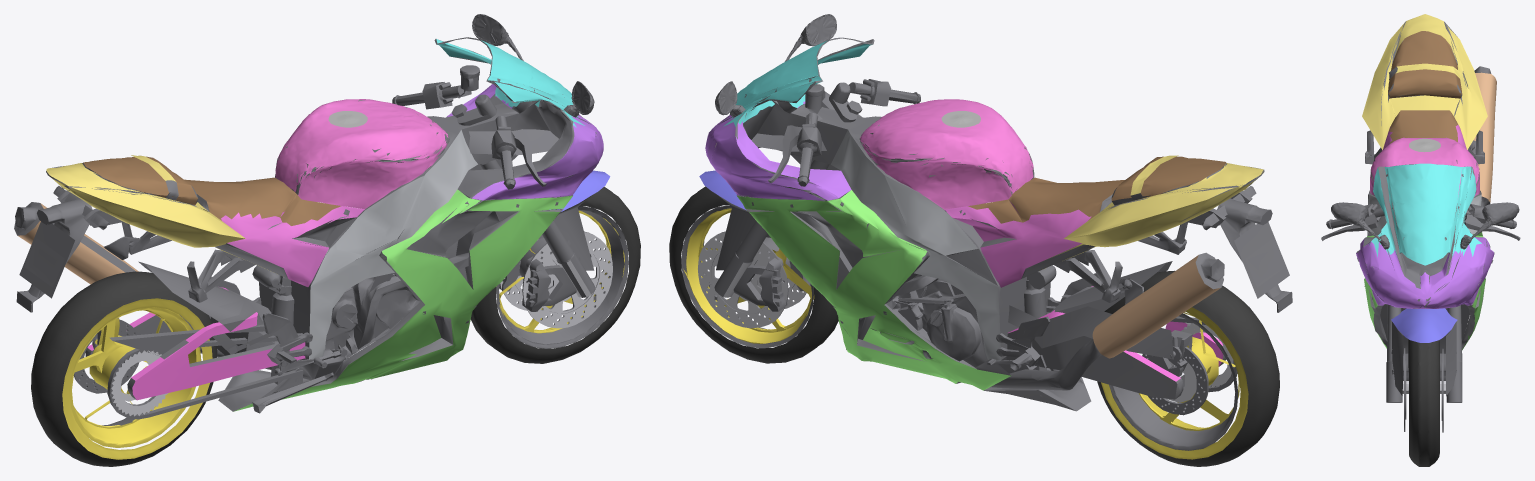
The model's file is ninja.glb.
3 renders of one model, left to right at view 1: azimuth 30°, elevation 25°; view 2: azimuth 150°, elevation 25°; view 3: azimuth 270°, elevation 25°, orthographic. The views are drawn at different scales.
Parts seen in each view (by area): view 1: mekanik, bodi_fairing_samping, ban, bodi_tangki, velg, rangka, jok, bodi_buntut, cakram, swingarm, bodi_cover_tengah, bodi_cowl_depan (+3 smaller); view 2: mekanik, bodi_fairing_samping, bodi_tangki, ban, rangka, velg, bodi_buntut, jok, bodi_cowl_depan, bodi_cover_tengah, knalpot, cakram (+3 smaller); view 3: mekanik, visor, bodi_buntut, bodi_cowl_depan, jok, ban, bodi_tangki, bodi_spakbor_depan, knalpot, bodi_fairing_samping, rangka, logam.
Boxes of the visible parts, x1,y1,x2,y2 form: mekanik: (14,14,628,425); bodi_fairing_samping: (234,189,572,411); ban: (31,186,640,466); bodi_tangki: (275,99,448,209); velg: (62,210,624,459); rangka: (309,130,477,363); jok: (83,156,341,225); bodi_buntut: (46,155,267,269); cakram: (111,231,612,416); swingarm: (87,287,305,400); bodi_cover_tengah: (221,206,364,286); bodi_cowl_depan: (446,84,603,200); mekanik: (681,14,1292,450); bodi_fairing_samping: (737,190,1011,390); bodi_tangki: (860,99,1033,209); ban: (669,186,1279,466); rangka: (831,130,1001,360); velg: (683,208,1248,459); bodi_buntut: (1042,155,1263,269); jok: (968,156,1226,223); bodi_cowl_depan: (705,101,851,200); bodi_cover_tengah: (944,201,1091,287); knalpot: (1092,255,1220,358); cakram: (698,231,1233,402); mekanik: (1321,21,1520,432); visor: (1369,163,1481,265); bodi_buntut: (1362,14,1487,149); bodi_cowl_depan: (1356,237,1494,308); jok: (1388,31,1462,143); ban: (1408,339,1439,466); bodi_tangki: (1370,137,1479,196); bodi_spakbor_depan: (1391,308,1457,342); knalpot: (1473,72,1496,202); bodi_fairing_samping: (1364,232,1485,350); rangka: (1367,194,1482,235); logam: (1409,138,1440,152).
Bounding box in the file's own units: 1.99 × 1.03 × 0.6934.
